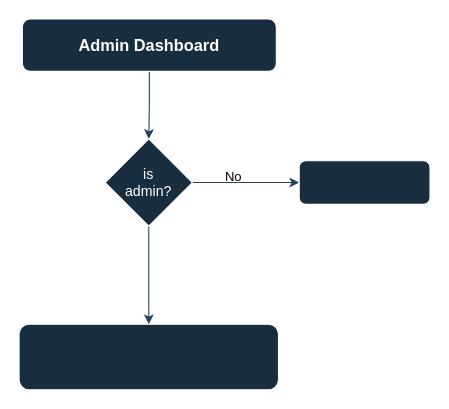
Some shapes in this 449 by 409 pixel diagram are drawn without their labels. Here are the shapes that lost their labels. From the top down, the centre of each, then its label:
At pixel 364 182: "Invalid user".
At pixel 148 356: "Show Data results".
